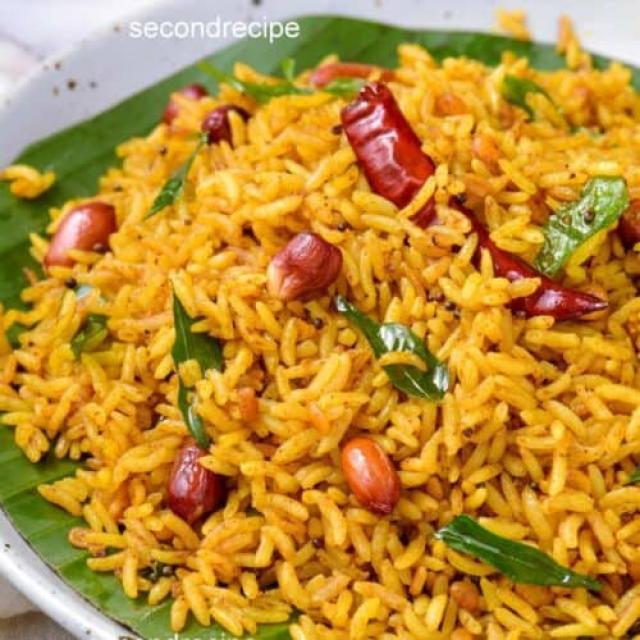puliyogare: (2, 4, 640, 640)
